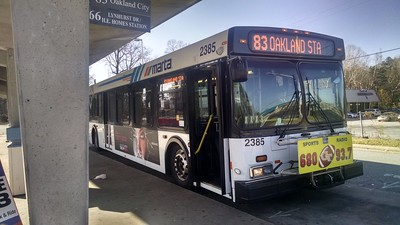bus: (89, 25, 363, 206)
